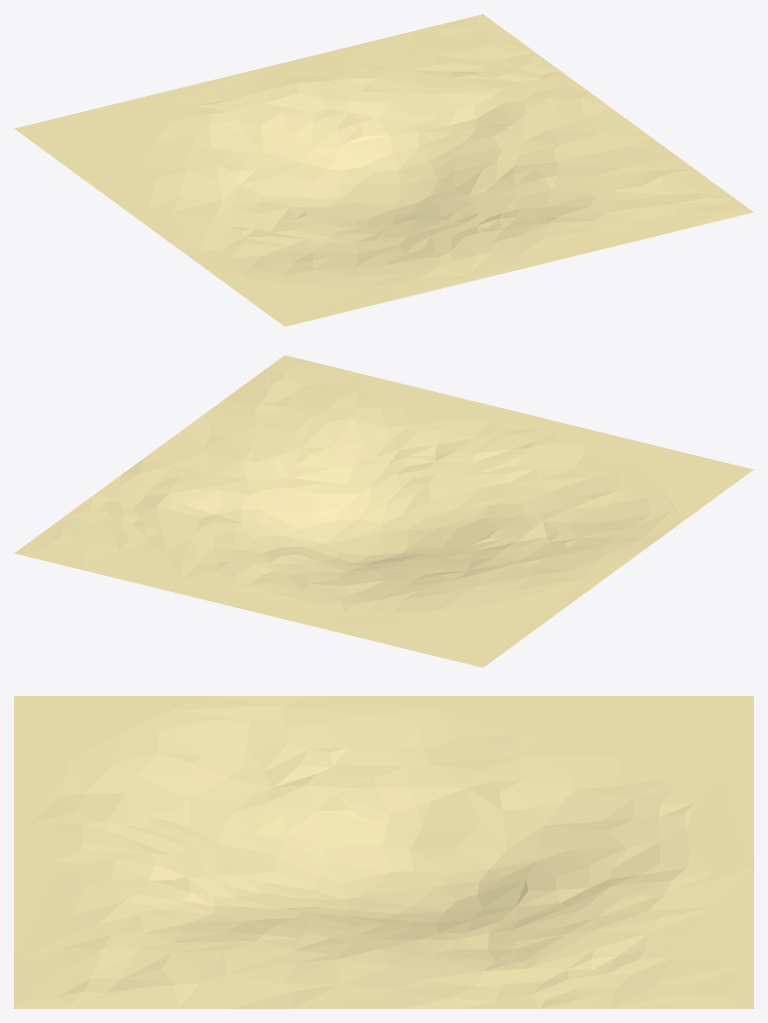
The model's file is Terrain_s_03.fbx.
3 renders of one model, top to bottom at view 1: azimuth 30°, elevation 25°; view 2: azimuth 150°, elevation 25°; view 3: azimuth 270°, elevation 25°, orthographic. The views are drawn at different scales.
Parts seen in each view (by area): view 1: Terrain_s_03; view 2: Terrain_s_03; view 3: Terrain_s_03.
Boxes of the visible parts, x1,y1,x2,y2 form: Terrain_s_03: (14, 14, 753, 326); Terrain_s_03: (14, 355, 753, 667); Terrain_s_03: (14, 696, 753, 1008).
Bounding box in the file's own units: 5000 × 299 × 5000.
